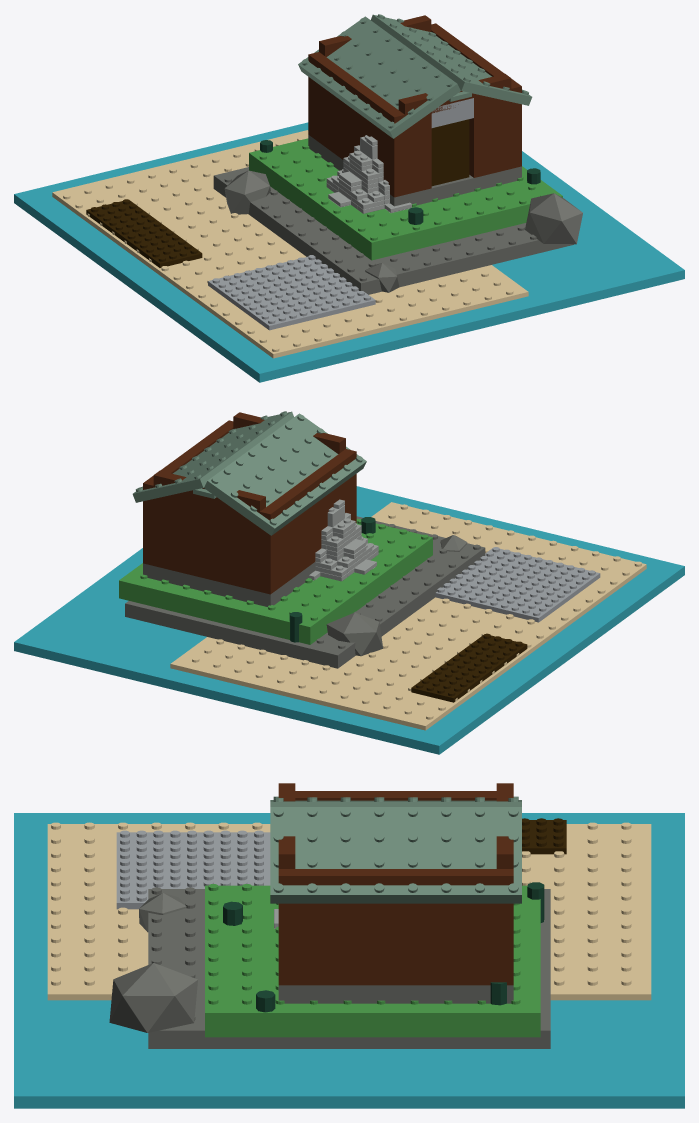
The model's file is lego_coastal_sanctuary.glb.
3 renders of one model, top to bottom at view 1: azimuth 30°, elevation 25°; view 2: azimuth 150°, elevation 25°; view 3: azimuth 270°, elevation 25°, orthographic. The views are drawn at different scales.
Visible parts, largest first — view 1: Terrain_Ocean_Water, Terrain_Sand_Beach, Terrain_Grass_Bluff, Terrain_Cliff_Terrace, Cabin_Roof_Slope_Left, Structure_Landing_Pad, Cabin_Wall_West, Cabin_Wall_South_Right, Cabin_Roof_Slope_Right, Structure_Wooden_Pier, Cabin_Wall_South_Left, Nature_Boulder_3 (+9 smaller); view 2: Terrain_Ocean_Water, Terrain_Sand_Beach, Terrain_Grass_Bluff, Cabin_Wall_North, Terrain_Cliff_Terrace, Cabin_Roof_Slope_Left, Structure_Landing_Pad, Cabin_Wall_West, Structure_Wooden_Pier, Cabin_Roof_Slope_Right, Cabin_Floor, Nature_Boulder_1 (+3 smaller); view 3: Terrain_Ocean_Water, Terrain_Sand_Beach, Terrain_Grass_Bluff, Cabin_Wall_East, Cabin_Roof_Slope_Right, Terrain_Cliff_Terrace, Structure_Landing_Pad, Nature_Boulder_3, Cabin_Floor, Cabin_Roof_Slope_Left, Cabin_Wall_West, Cabin_Wall_South_Right (+5 smaller).
Part boxes in pixels (x1=…): Terrain_Ocean_Water: x1=14, y1=122, x2=684, y2=382; Terrain_Sand_Beach: x1=52, y1=130, x2=528, y2=358; Terrain_Grass_Bluff: x1=249, y1=138, x2=562, y2=260; Terrain_Cliff_Terrace: x1=213, y1=167, x2=573, y2=294; Cabin_Roof_Slope_Left: x1=298, y1=16, x2=460, y2=138; Structure_Landing_Pad: x1=208, y1=255, x2=375, y2=330; Cabin_Wall_West: x1=314, y1=56, x2=398, y2=181; Cabin_Wall_South_Right: x1=469, y1=82, x2=521, y2=177; Cabin_Roof_Slope_Right: x1=371, y1=14, x2=532, y2=105; Structure_Wooden_Pier: x1=86, y1=199, x2=202, y2=267; Cabin_Wall_South_Left: x1=388, y1=110, x2=431, y2=197; Nature_Boulder_3: x1=525, y1=193, x2=582, y2=244; Terrain_Ocean_Water: x1=14, y1=486, x2=684, y2=754; Terrain_Sand_Beach: x1=170, y1=502, x2=646, y2=730; Terrain_Grass_Bluff: x1=119, y1=519, x2=432, y2=644; Cabin_Wall_North: x1=143, y1=479, x2=276, y2=594; Terrain_Cliff_Terrace: x1=125, y1=516, x2=485, y2=668; Cabin_Roof_Slope_Left: x1=204, y1=413, x2=366, y2=535; Structure_Landing_Pad: x1=435, y1=547, x2=600, y2=622; Cabin_Wall_West: x1=266, y1=453, x2=350, y2=589; Structure_Wooden_Pier: x1=411, y1=633, x2=527, y2=702; Cabin_Roof_Slope_Right: x1=132, y1=411, x2=293, y2=502; Cabin_Floor: x1=143, y1=562, x2=315, y2=606; Nature_Boulder_1: x1=326, y1=612, x2=383, y2=656; Terrain_Ocean_Water: x1=14, y1=813, x2=684, y2=1108; Terrain_Sand_Beach: x1=47, y1=822, x2=651, y2=1000; Terrain_Grass_Bluff: x1=205, y1=884, x2=540, y2=1037; Cabin_Wall_East: x1=295, y1=869, x2=496, y2=985; Cabin_Roof_Slope_Right: x1=270, y1=807, x2=521, y2=903; Terrain_Cliff_Terrace: x1=148, y1=887, x2=550, y2=1048; Structure_Landing_Pad: x1=116, y1=830, x2=270, y2=909; Nature_Boulder_3: x1=109, y1=963, x2=197, y2=1032; Cabin_Floor: x1=278, y1=985, x2=513, y2=1003; Cabin_Roof_Slope_Left: x1=270, y1=796, x2=521, y2=806; Cabin_Wall_West: x1=295, y1=791, x2=496, y2=800; Cabin_Wall_South_Right: x1=278, y1=869, x2=295, y2=985.
Size of what is drawn, in the model's own units: 14.4 by 5.19 by 14.4.
